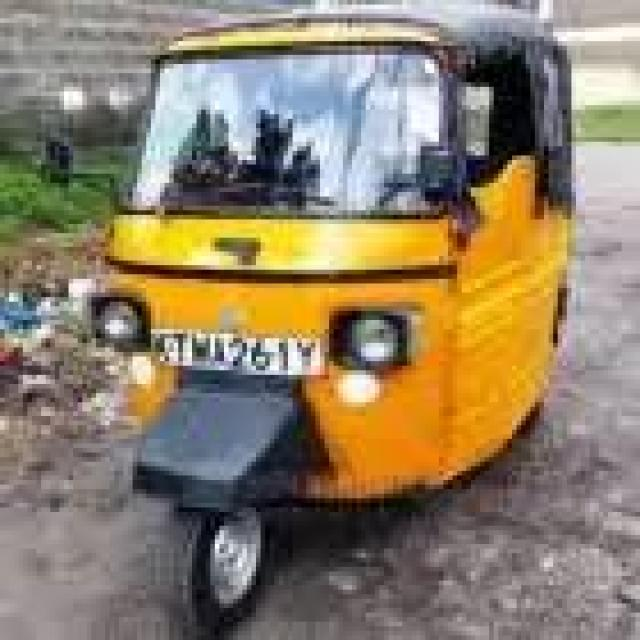tuktuk: (29, 3, 606, 640)
